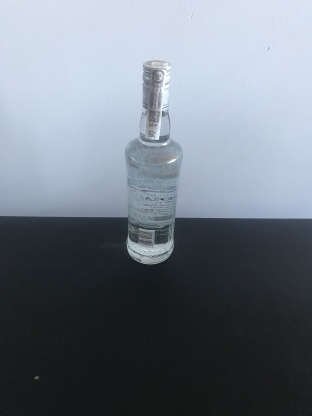nakretka: (139, 55, 174, 110)
